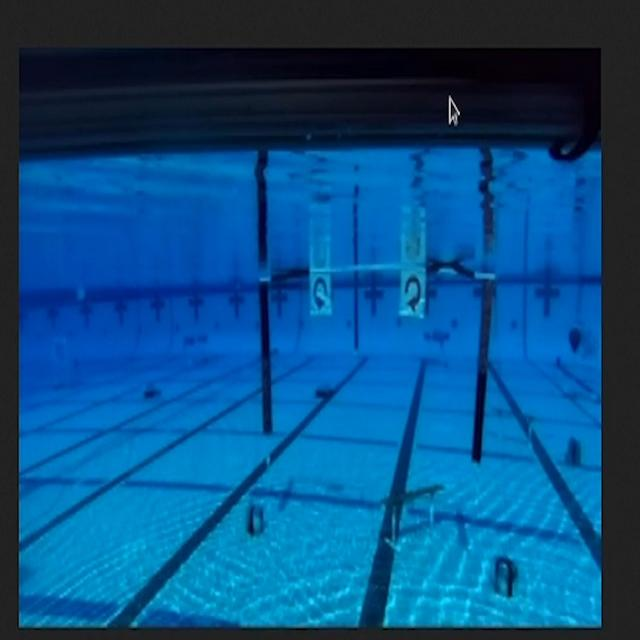Gate: (254, 263, 499, 459)
